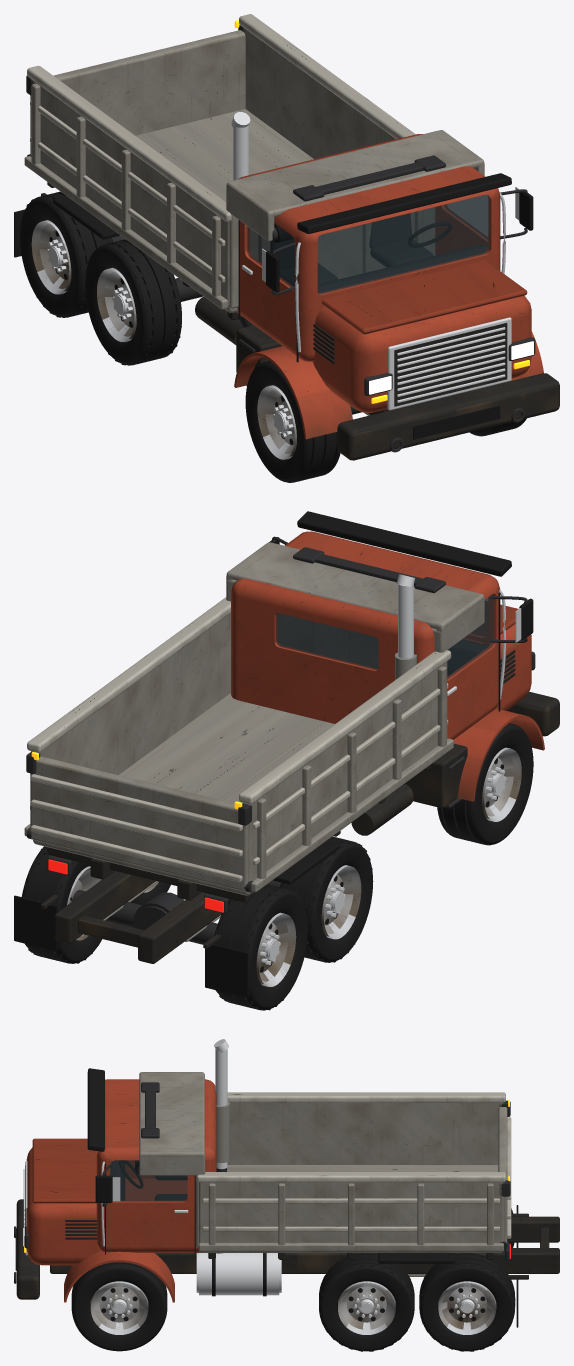
File: dumptruck.glb
3 renders of one model, top to bottom at view 1: azimuth 30°, elevation 25°; view 2: azimuth 150°, elevation 25°; view 3: azimuth 270°, elevation 25°, orthographic. The views are drawn at different scales.
Visible parts, largest first — view 1: body_bed_steel, body_paint_red, body_frame_dark, body_glass, body_bed_steel_light, body_paint_red_dark, wheel_2_right_tyre_rubber, body_black_plastic, body_chrome, wheel_3_right_tyre_rubber, wheel_1_right_tyre_rubber, body_iron (+6 smaller); view 2: body_bed_steel, body_paint_red, body_bed_steel_light, body_frame_dark, body_black_plastic, wheel_3_right_tyre_rubber, body_iron, body_glass, wheel_2_right_tyre_rubber, wheel_1_right_tyre_rubber, wheel_3_left_tyre_rubber, body_chrome (+4 smaller); view 3: body_bed_steel, body_paint_red, body_bed_steel_light, body_frame_dark, wheel_3_left_tyre_rubber, wheel_2_left_tyre_rubber, body_chrome, wheel_1_left_tyre_rubber, body_paint_red_dark, body_black_plastic, body_glass, wheel_3_left_rim_paint (+4 smaller).
Boxes of the visible parts, x1=… form: body_bed_steel: x1=24, y1=27, x2=484, y2=312; body_paint_red: x1=234, y1=134, x2=543, y2=439; body_frame_dark: x1=41, y1=182, x2=559, y2=460; body_glass: x1=247, y1=195, x2=489, y2=293; body_bed_steel_light: x1=27, y1=14, x2=415, y2=282; body_paint_red_dark: x1=322, y1=260, x2=527, y2=334; wheel_2_right_tyre_rubber: x1=85, y1=239, x2=181, y2=365; body_black_plastic: x1=14, y1=173, x2=533, y2=439; body_chrome: x1=231, y1=112, x2=519, y2=410; wheel_3_right_tyre_rubber: x1=20, y1=191, x2=112, y2=317; wheel_1_right_tyre_rubber: x1=245, y1=360, x2=340, y2=482; body_iron: x1=26, y1=25, x2=535, y2=452; body_bed_steel: x1=24, y1=542, x2=484, y2=895; body_paint_red: x1=231, y1=531, x2=544, y2=801; body_bed_steel_light: x1=27, y1=597, x2=451, y2=882; body_frame_dark: x1=41, y1=650, x2=559, y2=963; body_black_plastic: x1=14, y1=511, x2=533, y2=997; wheel_3_right_tyre_rubber: x1=214, y1=884, x2=307, y2=1010; body_iron: x1=26, y1=536, x2=535, y2=944; body_glass: x1=276, y1=594, x2=493, y2=679; wheel_2_right_tyre_rubber: x1=280, y1=836, x2=373, y2=962; wheel_1_right_tyre_rubber: x1=437, y1=723, x2=533, y2=845; wheel_3_left_tyre_rubber: x1=21, y1=846, x2=102, y2=963; body_chrome: x1=396, y1=574, x2=521, y2=699; body_bed_steel: x1=139, y1=1072, x2=507, y2=1252; body_paint_red: x1=26, y1=1079, x2=216, y2=1302; body_bed_steel_light: x1=196, y1=1092, x2=511, y2=1238; body_frame_dark: x1=16, y1=1165, x2=559, y2=1299; wheel_3_left_tyre_rubber: x1=419, y1=1253, x2=515, y2=1351; wheel_2_left_tyre_rubber: x1=319, y1=1253, x2=414, y2=1351; body_chrome: x1=23, y1=1039, x2=281, y2=1295; wheel_1_left_tyre_rubber: x1=71, y1=1262, x2=167, y2=1351; body_paint_red_dark: x1=32, y1=1138, x2=96, y2=1203; body_black_plastic: x1=15, y1=1068, x2=518, y2=1327; body_glass: x1=110, y1=1160, x2=187, y2=1201; wheel_3_left_rim_paint: x1=438, y1=1281, x2=496, y2=1334.
Size of the model in its own units: 2.97 by 3.4 by 7.07.
Materials: 20 (6 with a texture image).
